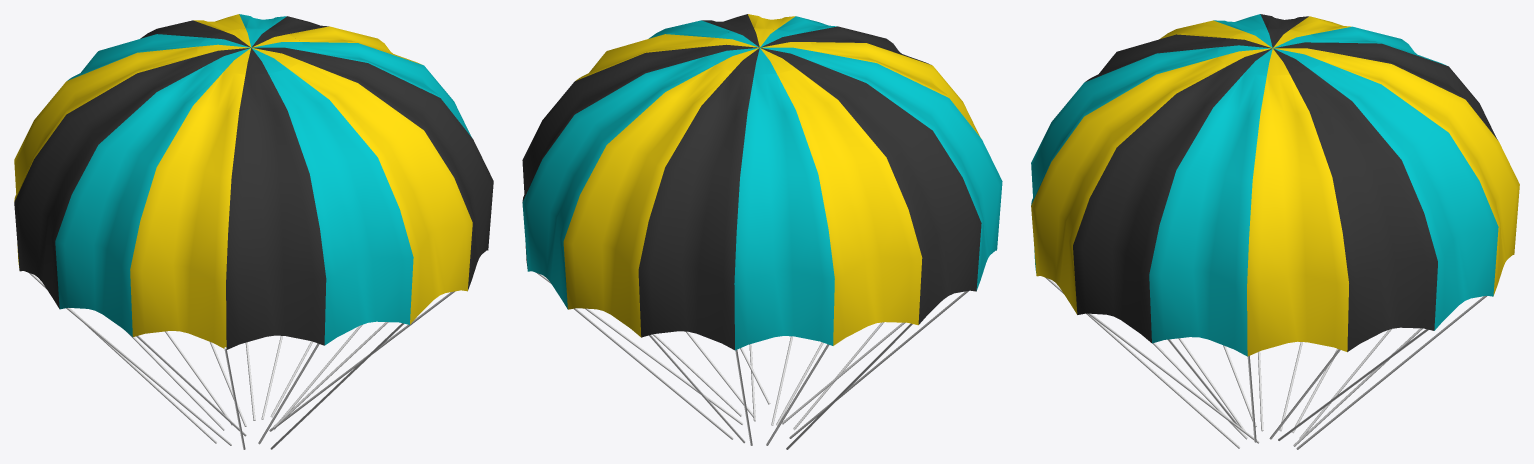
File: paraca.fbx
3 views of the same model, side by side, from view 1: azimuth 30°, elevation 25°; view 2: azimuth 150°, elevation 25°; view 3: azimuth 270°, elevation 25° (orthographic).
Visible parts, largest first — view 1: Sphere002, Cylinder013, Cylinder011, Cylinder012, Cylinder010; view 2: Sphere002, Cylinder013, Cylinder002, Cylinder003, Cylinder012; view 3: Sphere002, Cylinder002, Cylinder010, Cylinder011, Cylinder003.
Boxes of the visible parts, bbox=[...] form: Sphere002: bbox=[14, 14, 493, 349]; Cylinder013: bbox=[66, 308, 231, 445]; Cylinder011: bbox=[269, 291, 455, 431]; Cylinder012: bbox=[28, 272, 217, 443]; Cylinder010: bbox=[270, 323, 404, 449]; Sphere002: bbox=[522, 14, 1002, 350]; Cylinder013: bbox=[789, 290, 969, 438]; Cylinder002: bbox=[573, 308, 733, 439]; Cylinder003: bbox=[537, 273, 743, 424]; Cylinder012: bbox=[786, 323, 912, 449]; Sphere002: bbox=[1031, 14, 1519, 356]; Cylinder002: bbox=[1296, 295, 1486, 449]; Cylinder010: bbox=[1045, 277, 1240, 448]; Cylinder011: bbox=[1088, 313, 1259, 443]; Cylinder003: bbox=[1278, 329, 1428, 440].
Size of what is drawn, in the model's own units: 2.52 by 2.25 by 2.5.
